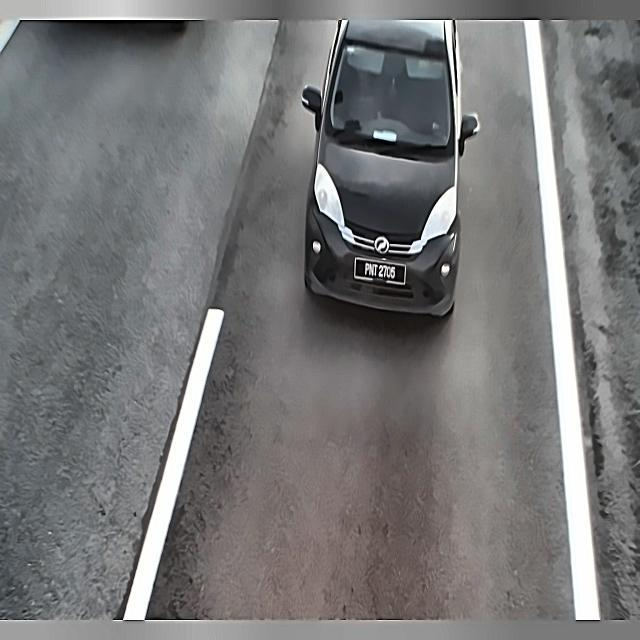car: (351, 249, 407, 294)
